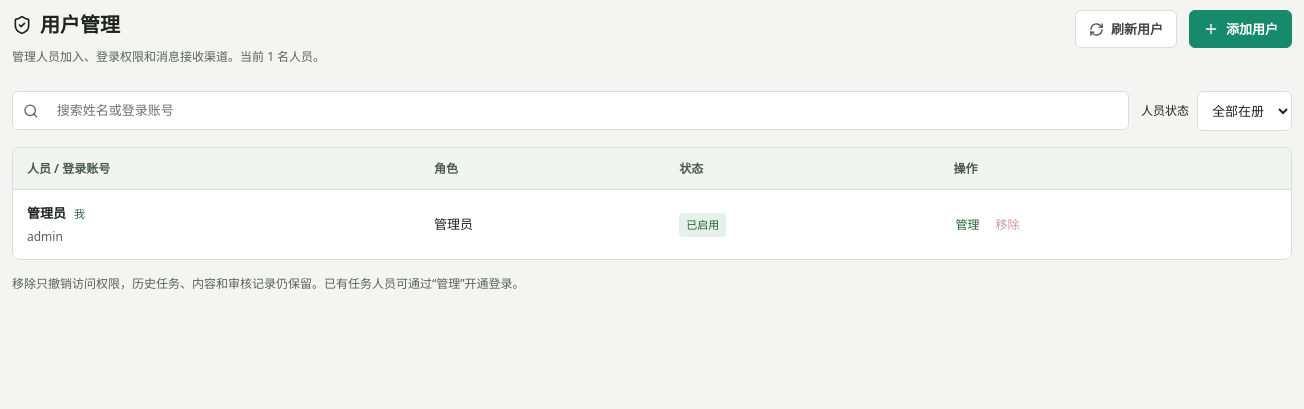
用户管理 › 搜索、已移除筛选和恢复用户
Check: the text "管理员" is shown, box [27,204,66,222]
Check: the text "测试成员" is not shown
Select "已移除" in the dropdown labelled "人员状态": x=1244, y=111 [1197,91,1292,131]
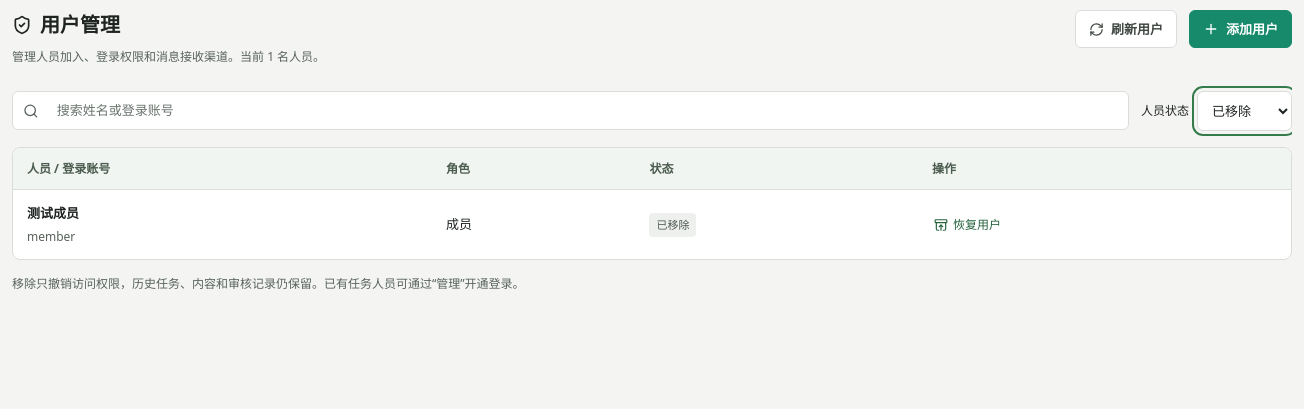
Click the button "恢复用户": x=968, y=225 [932,209,1003,240]
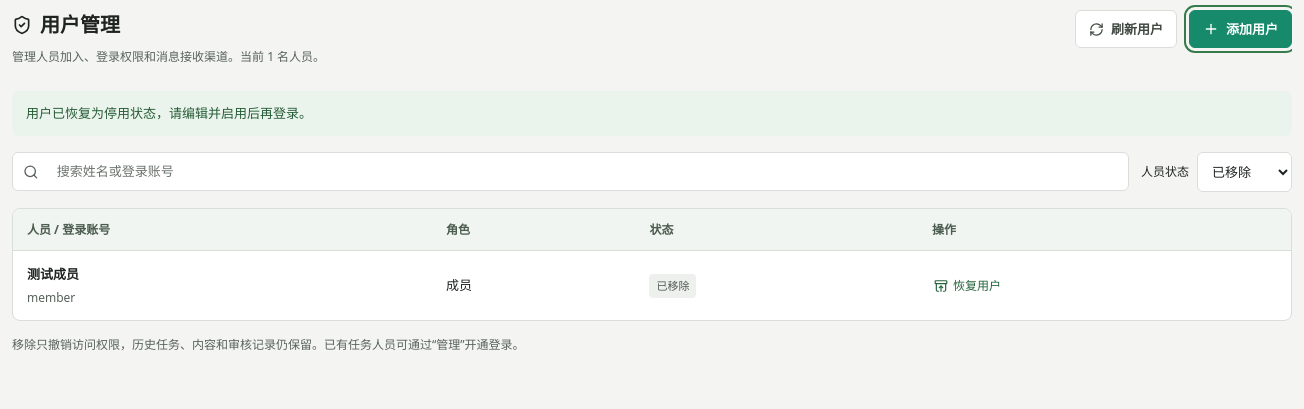
In the field named "搜索用户": x=587, y=172 [47,153,1128,190], type "不存在"
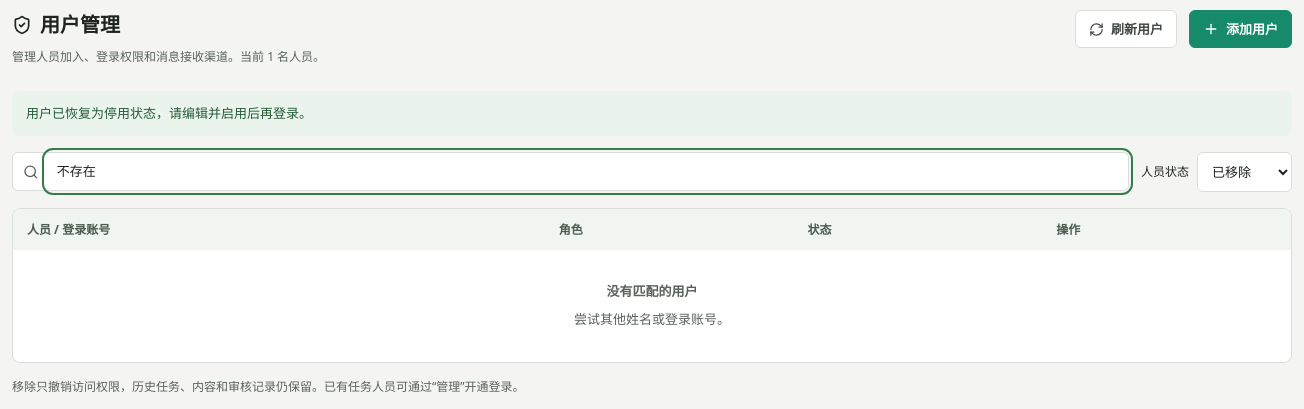
Check: the text "没有匹配的用户" is shown, box [606,282,698,300]
